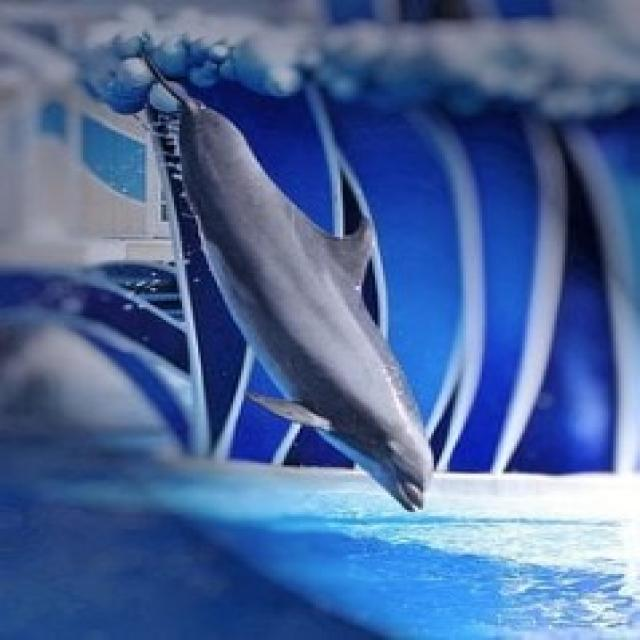Dolphin: (104, 35, 476, 524)
